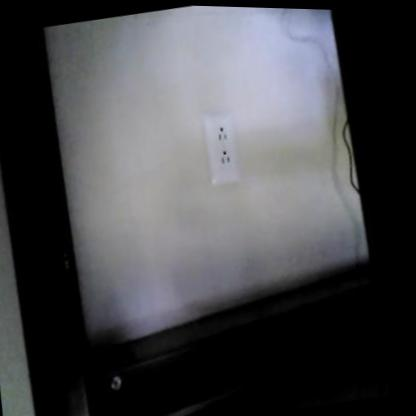OUTLET: (198, 109, 246, 186)
